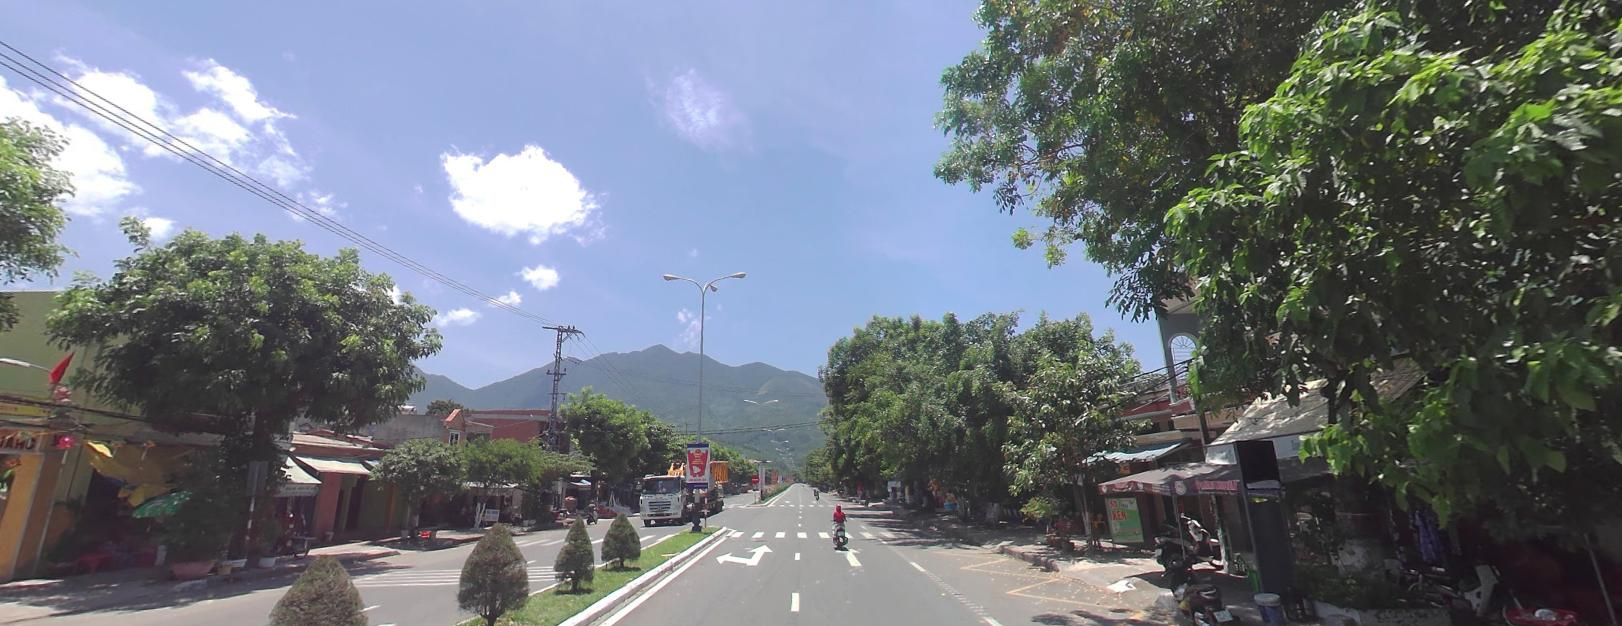Cam nguoc chieu: (750, 473, 758, 482)
